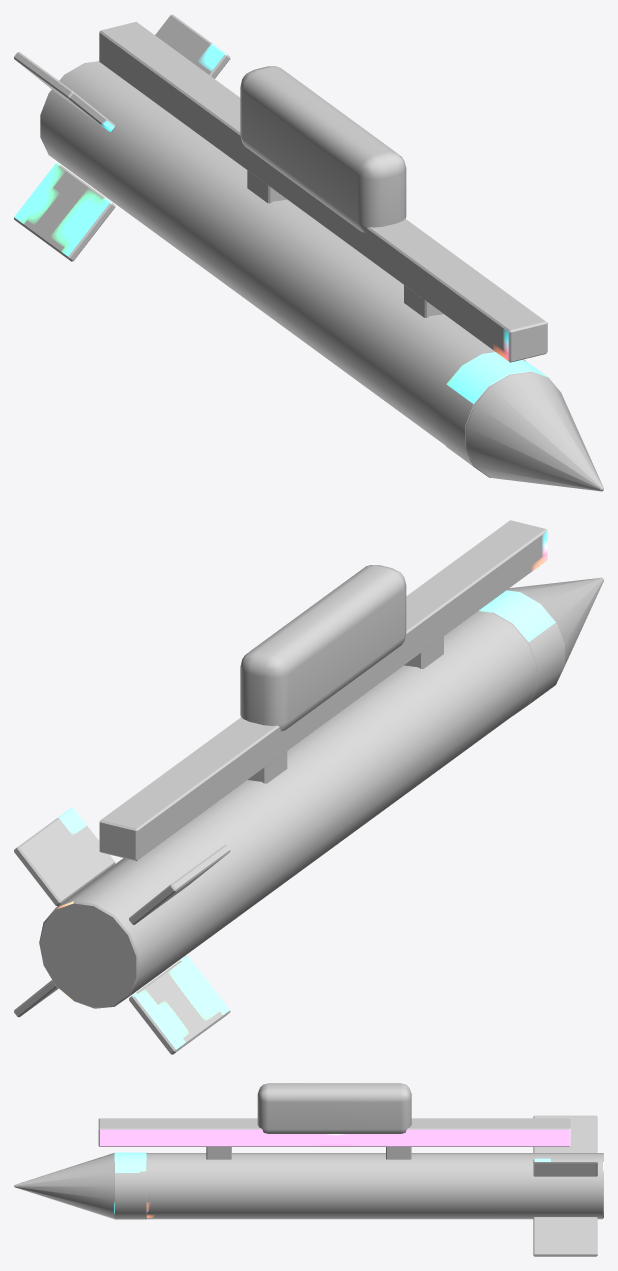
File: Rack_GroundSeeker.fbx
The picture shows the model from 3 angles, top to bottom: view 1: azimuth 30°, elevation 25°; view 2: azimuth 150°, elevation 25°; view 3: azimuth 270°, elevation 25°; orthographic projection. The views are drawn at different scales.
Visible parts, largest first — view 1: Rack_GroundSeeker; view 2: Rack_GroundSeeker; view 3: Rack_GroundSeeker.
Boxes of the visible parts, left/top/right/bottom form: Rack_GroundSeeker: left=14, top=14, right=603, bottom=491; Rack_GroundSeeker: left=14, top=520, right=603, bottom=1054; Rack_GroundSeeker: left=14, top=1083, right=603, bottom=1256.
Size of the model in its own units: 0.4187 by 0.6394 by 2.3.
